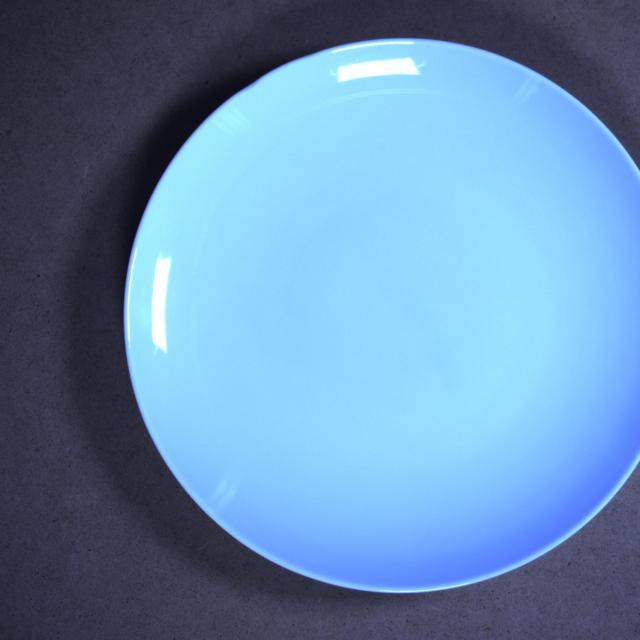plate: (125, 40, 640, 592)
